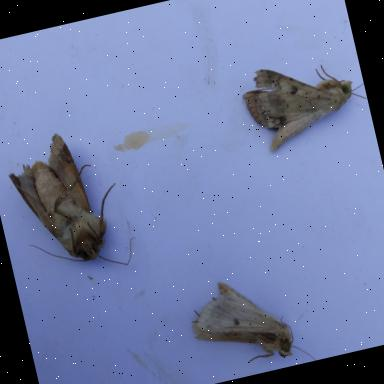abw: (0, 120, 146, 289), (180, 262, 318, 384), (234, 44, 374, 160)
